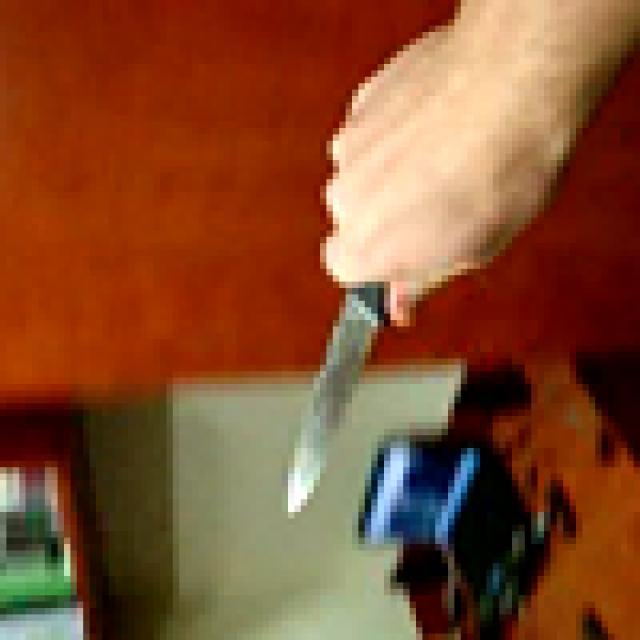Knife: (282, 205, 404, 525)
